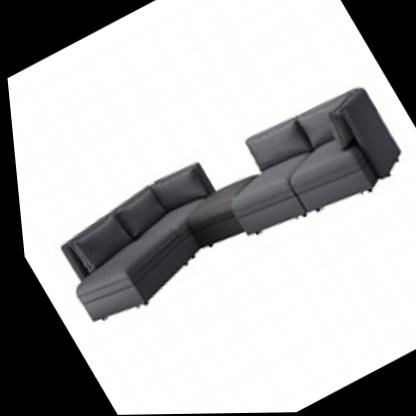Sofa: (18, 64, 416, 338)
